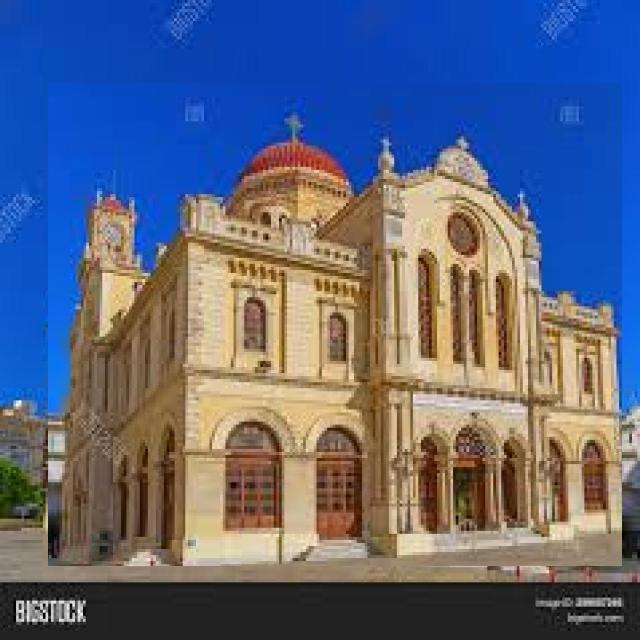Agios Minas: (49, 84, 623, 567)
